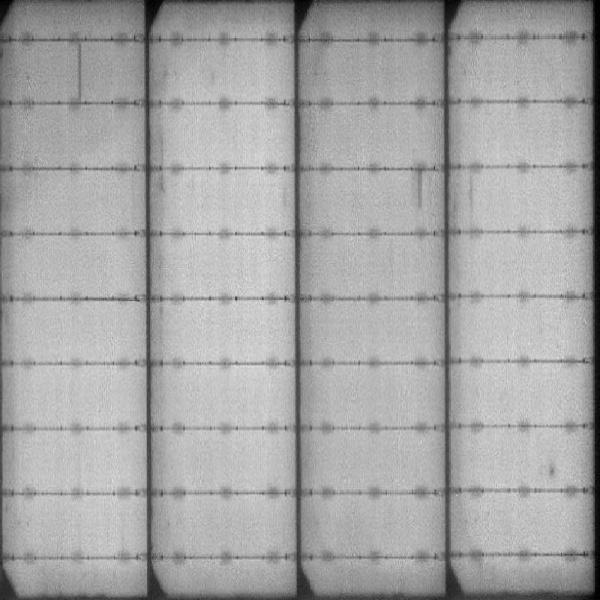scratch: (74, 44, 90, 101), (415, 165, 425, 208)
